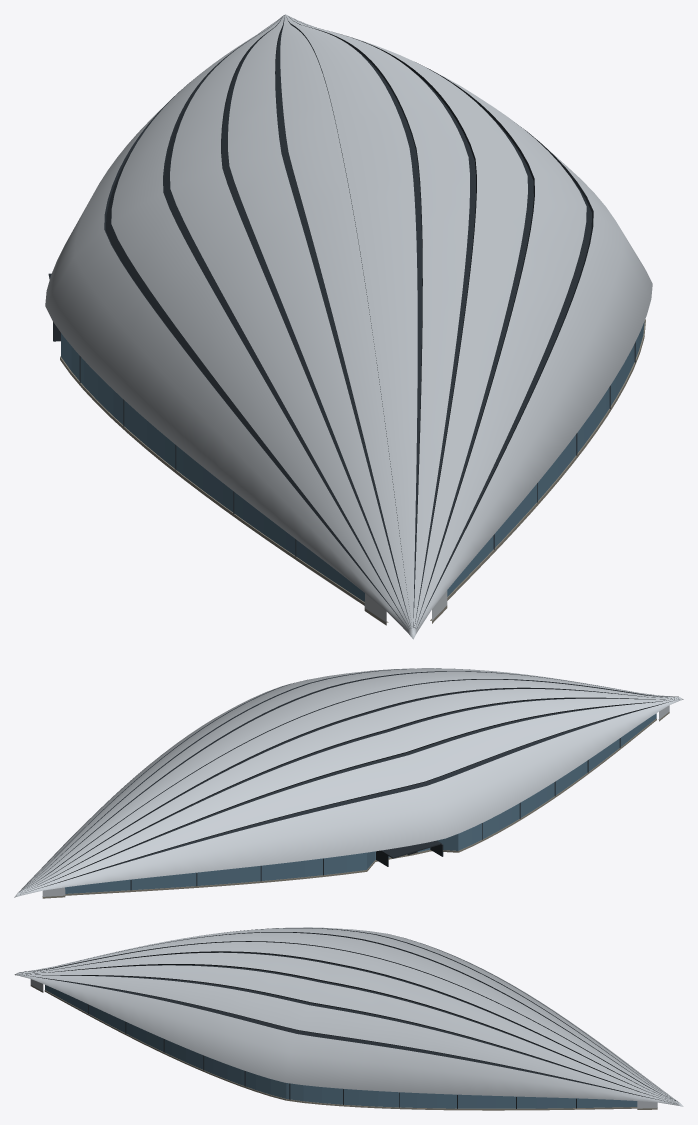
File: vikingskipet-far.glb
3 views of the same model, one above another, from view 1: azimuth 30°, elevation 25°; view 2: azimuth 150°, elevation 25°; view 3: azimuth 270°, elevation 25° (orthographic). The views are drawn at different scales.
Visible parts, largest first — view 1: vikingskipet-0-hull, vikingskipet-0-seam, vikingskipet-0-light, vikingskipet-0-concrete; view 2: vikingskipet-0-hull, vikingskipet-0-seam, vikingskipet-0-light, vikingskipet-0-concrete; view 3: vikingskipet-0-hull, vikingskipet-0-seam, vikingskipet-0-light, vikingskipet-0-concrete.
Boxes of the visible parts, x1,y1,x2,y2 form: vikingskipet-0-hull: [45, 14, 652, 639]; vikingskipet-0-seam: [48, 15, 635, 628]; vikingskipet-0-light: [61, 321, 644, 601]; vikingskipet-0-concrete: [60, 319, 645, 625]; vikingskipet-0-hull: [14, 668, 683, 897]; vikingskipet-0-seam: [19, 668, 679, 894]; vikingskipet-0-light: [65, 713, 656, 893]; vikingskipet-0-concrete: [42, 712, 669, 898]; vikingskipet-0-hull: [14, 927, 683, 1108]; vikingskipet-0-seam: [19, 928, 677, 1108]; vikingskipet-0-light: [45, 985, 637, 1108]; vikingskipet-0-concrete: [30, 985, 657, 1110].
Bounding box in the file's own units: 108 × 35 × 225.
